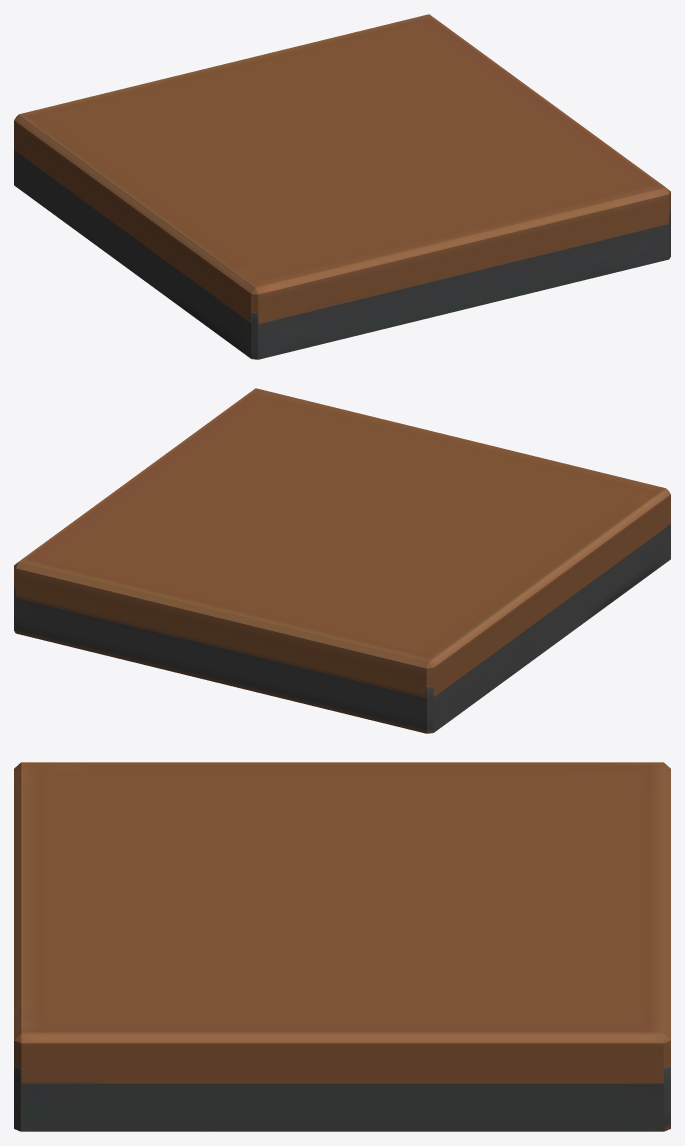
3 views of the same model, one above another, from view 1: azimuth 30°, elevation 25°; view 2: azimuth 150°, elevation 25°; view 3: azimuth 270°, elevation 25° (orthographic). The views are drawn at different scales.
Parts seen in each view (by area): view 1: 地砖; view 2: 地砖; view 3: 地砖.
Part boxes in pixels (bbox=[...]): 地砖: bbox=[14, 14, 670, 359]; 地砖: bbox=[14, 388, 670, 733]; 地砖: bbox=[14, 762, 670, 1131].
Size of the model in its own units: 0.8399 by 0.1339 by 0.8399.
1 material, 1 textured.
